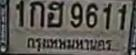1: (102, 2, 111, 29), (15, 0, 23, 26), (118, 3, 126, 29)
6: (85, 2, 97, 27)
9: (70, 1, 82, 27)
A01: (29, 0, 44, 26)
A44: (46, 0, 64, 27)
BKK: (26, 36, 114, 54)
